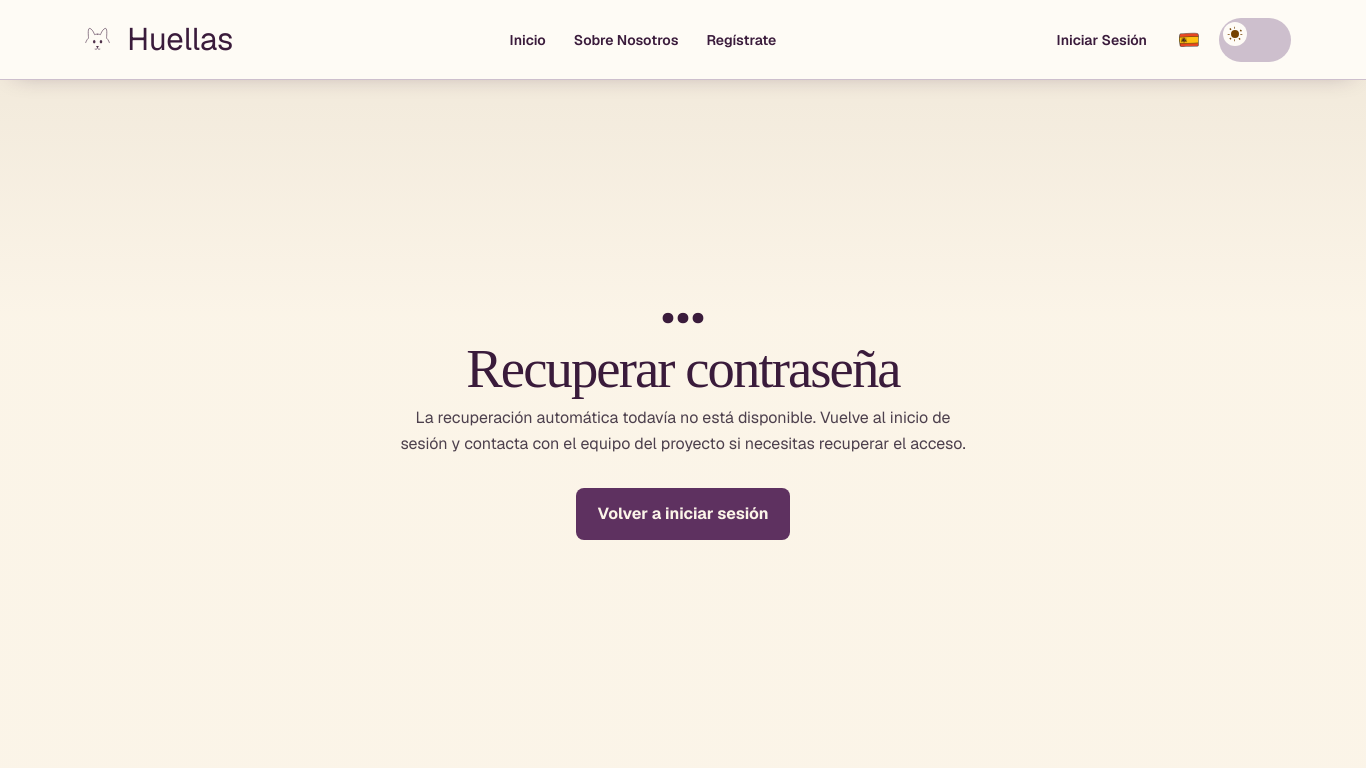
Test: application route loading › navigates between deferred public views and preserves the selected language
Expected: the heading "Recuperar contraseña" is shown, [466,338,900,399]
The real navbar has a switcher for desktop and another for mobile.
Click the button named "Cambiar idioma" at [1189, 40], box [1167,18,1211,62]
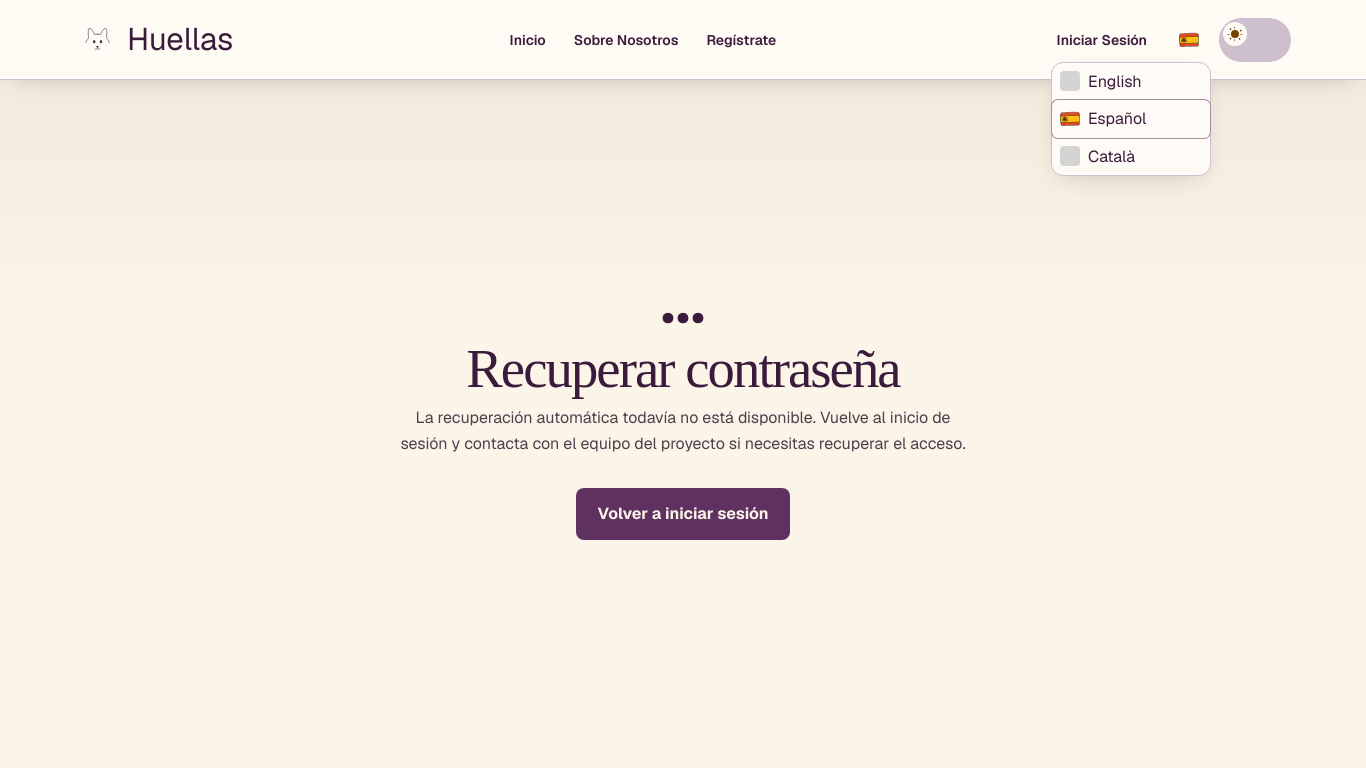
Click the button "English" at [1131, 81], box [1052,62,1210,100]
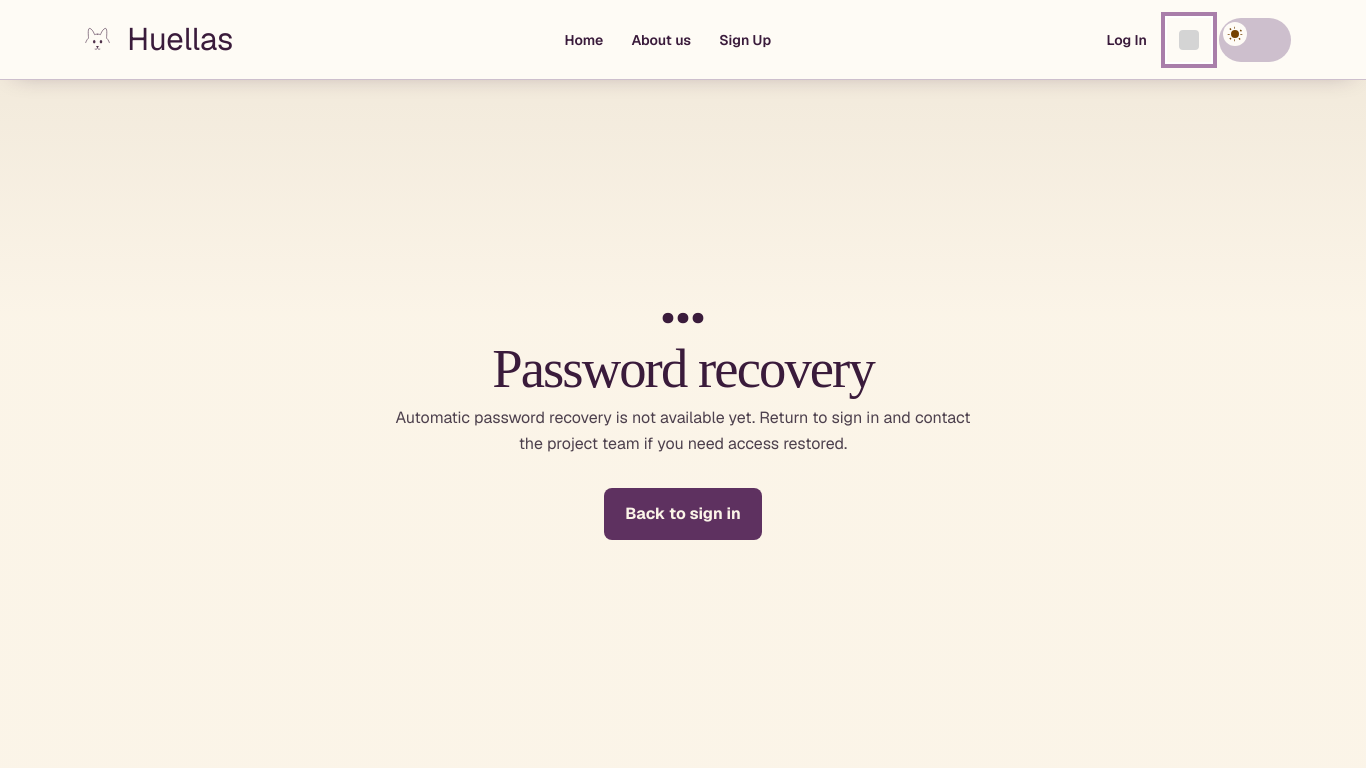
Click the link "Back to sign in" at [683, 514], box [604,488,762,540]
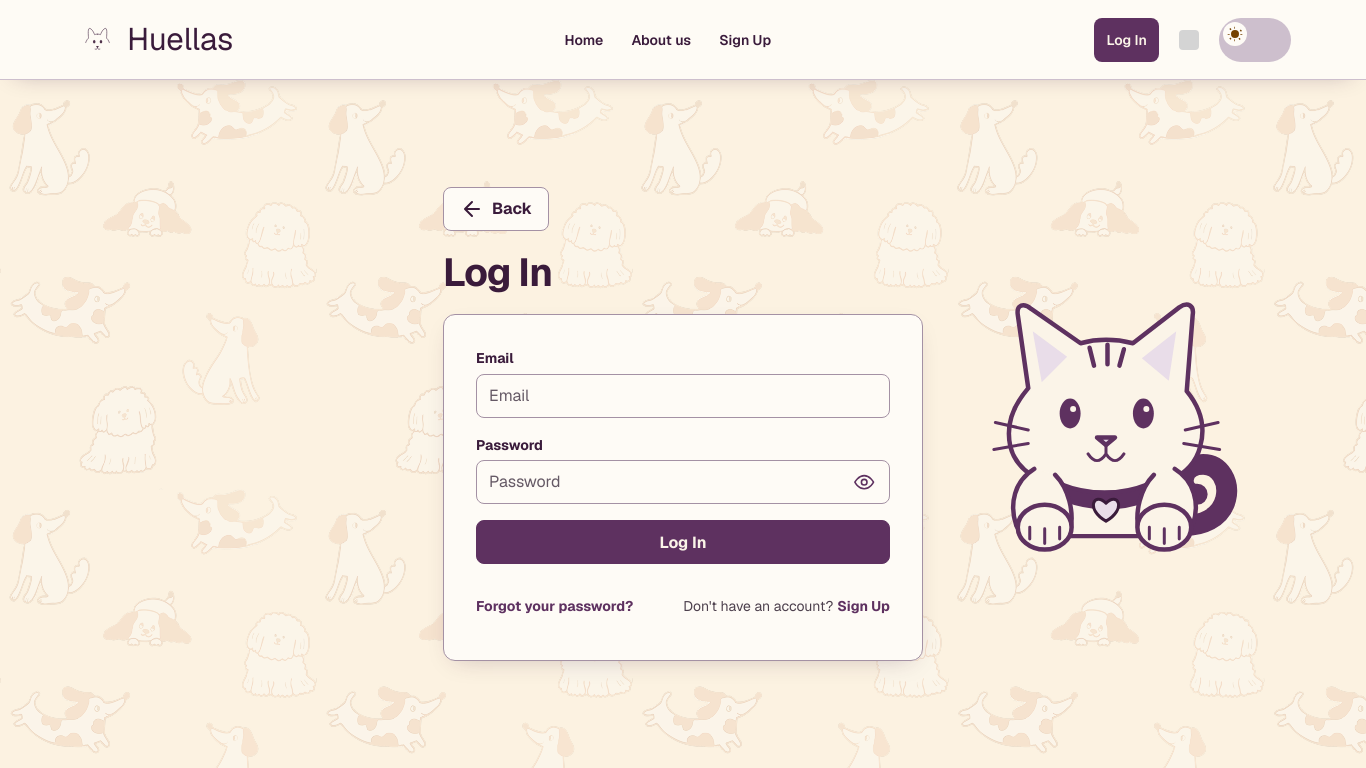
Result: the heading "Log In" is shown at [443,247,552,298]
